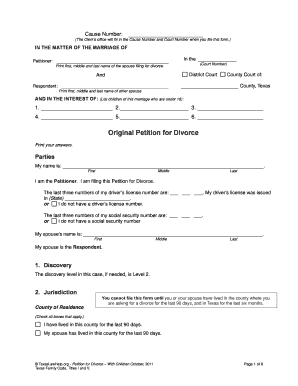checkbox: (50, 200, 58, 208), (50, 217, 58, 225), (34, 321, 42, 328), (34, 330, 42, 337), (181, 71, 188, 78), (219, 71, 226, 78)
textline: (62, 162, 265, 170), (82, 231, 264, 238), (55, 57, 170, 65), (60, 83, 170, 90), (40, 113, 114, 121), (127, 31, 205, 38), (40, 105, 114, 112), (120, 105, 190, 112), (196, 105, 266, 112), (196, 114, 266, 121), (119, 114, 189, 121), (65, 195, 130, 202), (179, 83, 239, 90), (197, 56, 238, 63), (169, 189, 180, 197), (181, 189, 192, 197), (193, 189, 204, 197), (168, 211, 179, 219), (180, 211, 191, 219), (192, 211, 203, 219)
